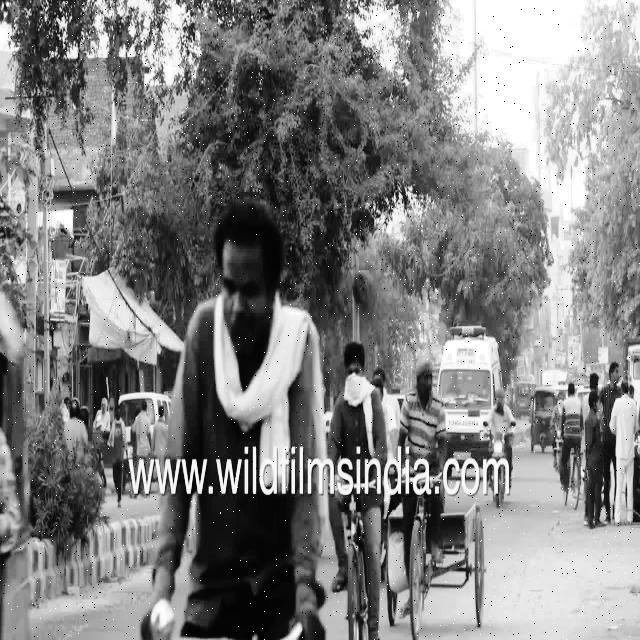Ambulance: (441, 322, 489, 440)
